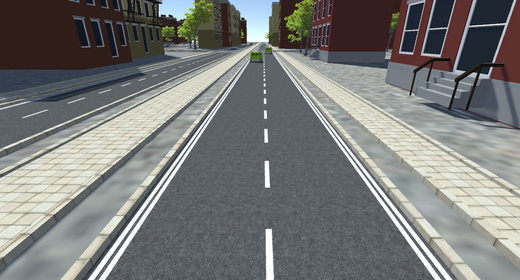centerstrip: (11, 67, 177, 120), (260, 58, 279, 280)
sidestripe: (281, 64, 453, 280), (86, 78, 238, 279)
